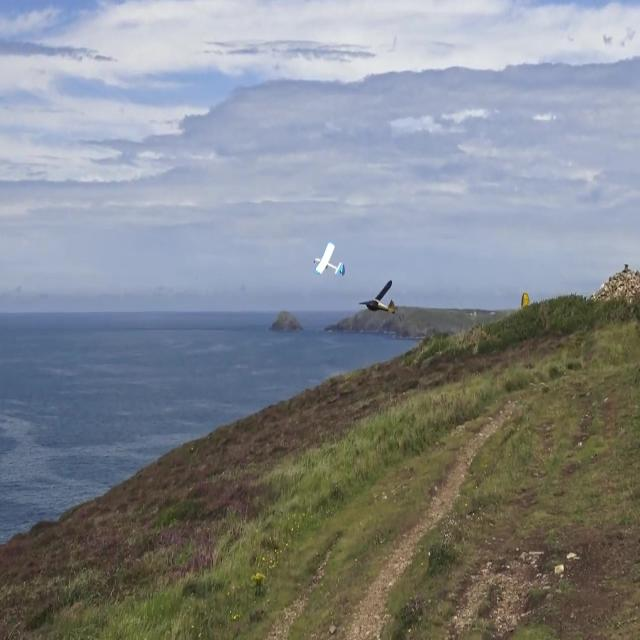iha: (359, 280, 395, 315), (306, 242, 339, 277)
